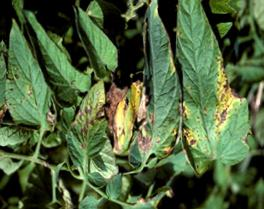Tomato leaf bacterial spot: (171, 5, 254, 179), (132, 2, 185, 166), (2, 14, 59, 134), (66, 73, 107, 176)
